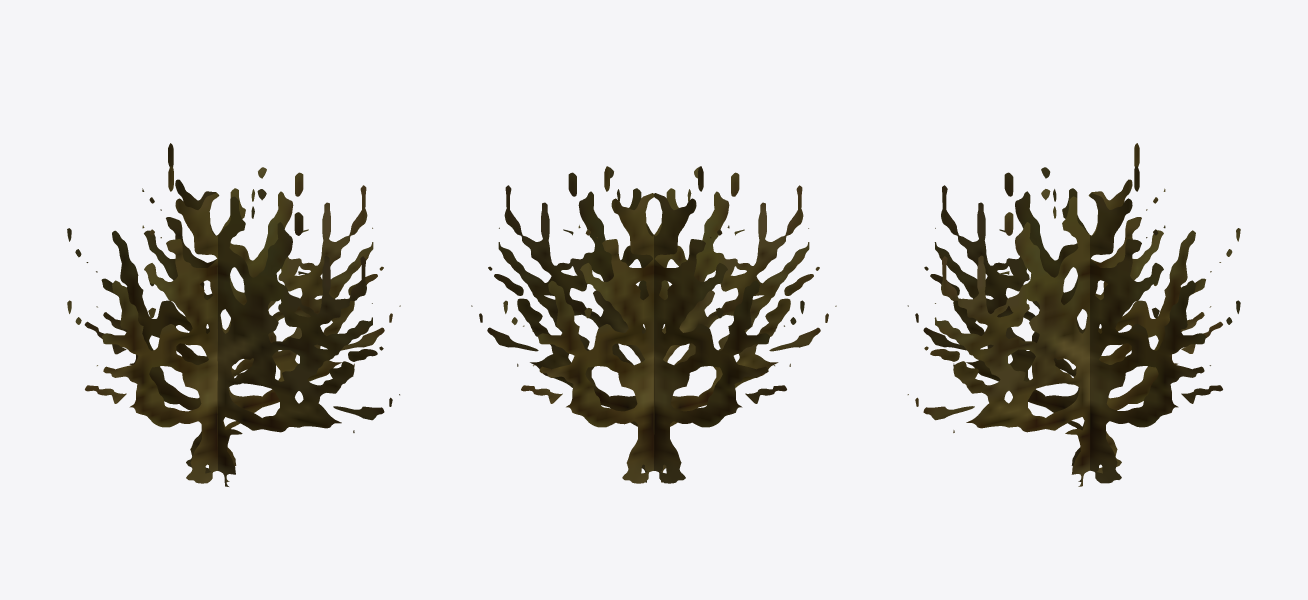
File: M2_YoungShrub1.glb
3 views of the same model, side by side, from view 1: azimuth 30°, elevation 25°; view 2: azimuth 150°, elevation 25°; view 3: azimuth 270°, elevation 25° (orthographic).
Visible parts, largest first — view 1: M2_YOUNGSHRUB1; view 2: M2_YOUNGSHRUB1; view 3: M2_YOUNGSHRUB1.
Boxes of the visible parts, <box> form: M2_YOUNGSHRUB1: <box>67,143,400,486</box>; M2_YOUNGSHRUB1: <box>471,166,836,483</box>; M2_YOUNGSHRUB1: <box>907,143,1240,486</box>.
Size of the model in its own units: 1.01 by 0.883 by 0.874.
Materials: 1 (1 with a texture image).
